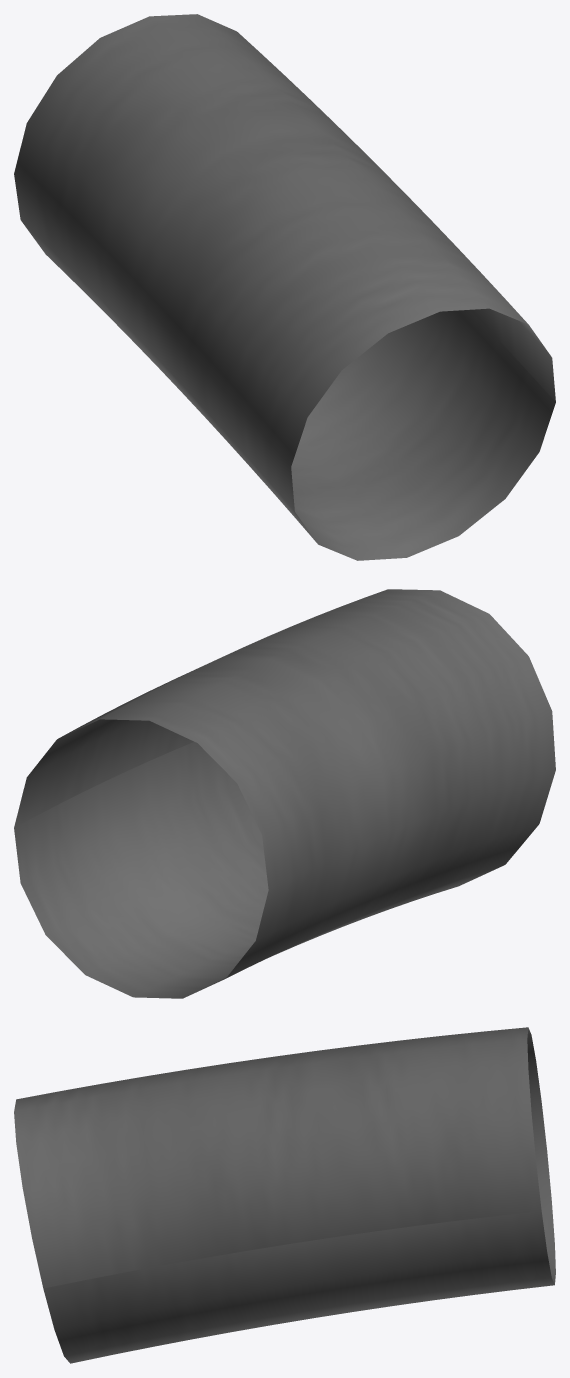
The model's file is mastarmcurve_6x2_c6.obj.
3 views of the same model, one above another, from view 1: azimuth 30°, elevation 25°; view 2: azimuth 150°, elevation 25°; view 3: azimuth 270°, elevation 25° (orthographic). The views are drawn at different scales.
Visible parts, largest first — view 1: mastarm_6x2_c6; view 2: mastarm_6x2_c6; view 3: mastarm_6x2_c6.
Boxes of the visible parts, box(x1,y1,x2,y2) form: mastarm_6x2_c6: box(14, 14, 555, 560); mastarm_6x2_c6: box(14, 589, 555, 998); mastarm_6x2_c6: box(14, 1027, 555, 1363).
Size of the model in its own units: 0.5417 by 0.6899 by 1.09.
